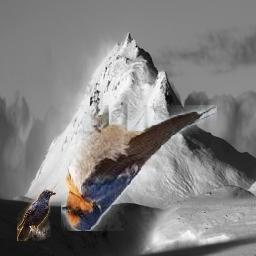Crow: (18, 189, 57, 241)
Swallow: (61, 105, 217, 231)
